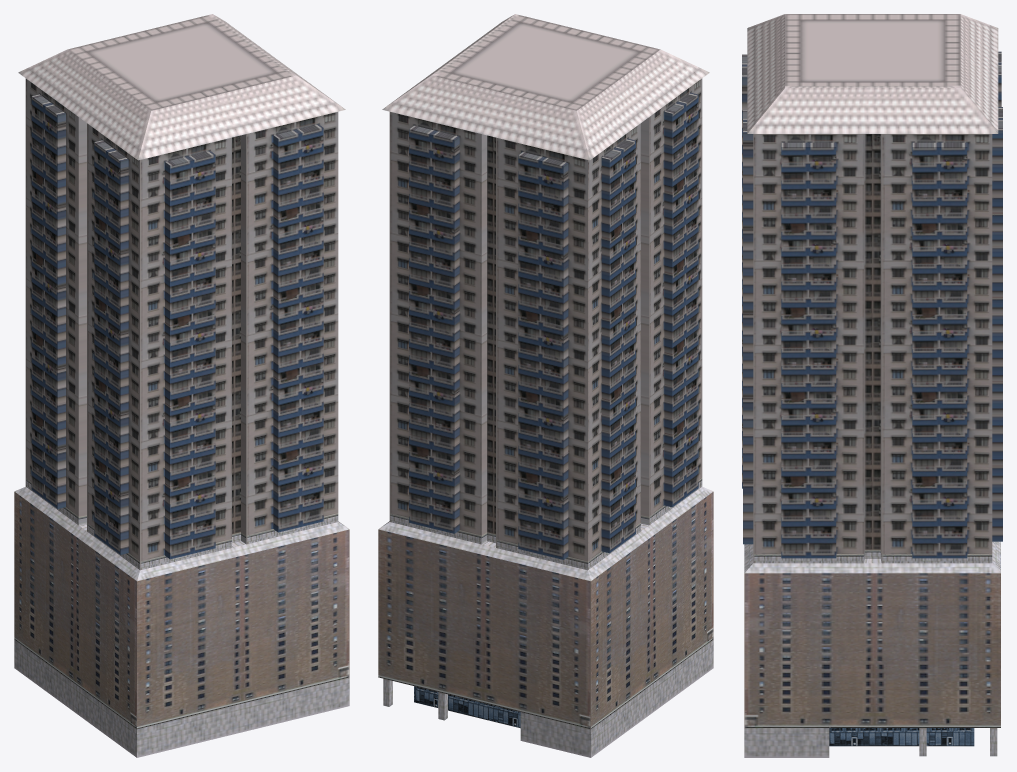
Rendered from building4.obj.
3 views of the same model, side by side, from view 1: azimuth 30°, elevation 25°; view 2: azimuth 150°, elevation 25°; view 3: azimuth 270°, elevation 25° (orthographic). The views are drawn at different scales.
Visible parts, largest first — view 1: building4; view 2: building4; view 3: building4.
Part boxes in pixels (bbox=[...]): building4: bbox=[14, 14, 349, 757]; building4: bbox=[378, 14, 713, 757]; building4: bbox=[742, 14, 1002, 757].
Bounding box in the file's own units: 0.4106 × 1.14 × 0.4132.
